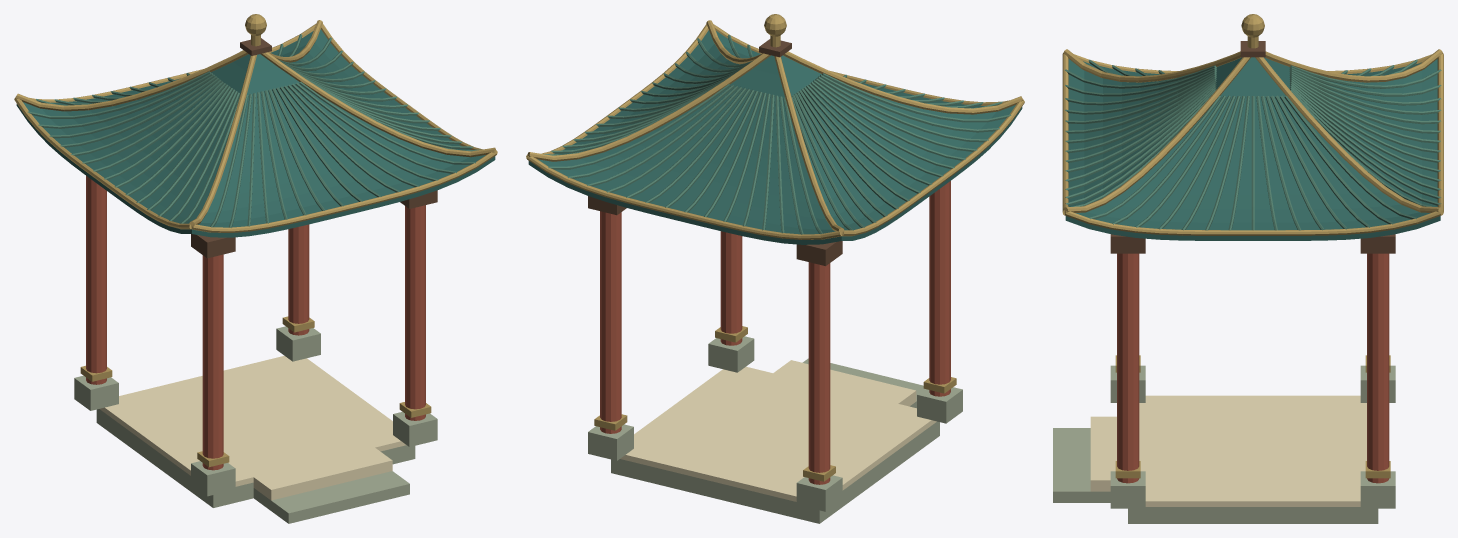
File: prefab-pavilion.glb
3 renders of one model, left to right at view 1: azimuth 30°, elevation 25°; view 2: azimuth 150°, elevation 25°; view 3: azimuth 270°, elevation 25°, orthographic. The views are drawn at different scales.
Parts seen in each view (by area): view 1: prefab-pavilion__roof0, prefab-pavilion__floor, prefab-pavilion__roof3, prefab-pavilion__stairs, prefab-pavilion__post-1_1, prefab-pavilion__roof1, prefab-pavilion__post1_1, prefab-pavilion__post-1_-1, prefab-pavilion__post1_-1, prefab-pavilion__roof2, prefab-pavilion__finial; view 2: prefab-pavilion__roof2, prefab-pavilion__floor, prefab-pavilion__roof3, prefab-pavilion__roof1, prefab-pavilion__post-1_-1, prefab-pavilion__post1_-1, prefab-pavilion__post-1_1, prefab-pavilion__post1_1, prefab-pavilion__stairs, prefab-pavilion__roof0, prefab-pavilion__finial; view 3: prefab-pavilion__roof1, prefab-pavilion__floor, prefab-pavilion__roof0, prefab-pavilion__roof2, prefab-pavilion__post1_1, prefab-pavilion__post1_-1, prefab-pavilion__stairs, prefab-pavilion__roof3, prefab-pavilion__finial, prefab-pavilion__post-1_-1, prefab-pavilion__post-1_1.
Part boxes in pixels (x1,y1,x2,y2): prefab-pavilion__roof0: [191, 52, 496, 237]; prefab-pavilion__floor: [96, 356, 415, 507]; prefab-pavilion__roof3: [14, 54, 256, 233]; prefab-pavilion__stairs: [253, 447, 409, 523]; prefab-pavilion__post-1_1: [191, 234, 235, 496]; prefab-pavilion__roof1: [268, 20, 497, 154]; prefab-pavilion__post1_1: [393, 190, 437, 446]; prefab-pavilion__post-1_-1: [74, 176, 118, 410]; prefab-pavilion__post1_-1: [276, 224, 320, 361]; prefab-pavilion__roof2: [16, 24, 315, 111]; prefab-pavilion__finial: [240, 14, 271, 55]; prefab-pavilion__roof2: [527, 55, 844, 244]; prefab-pavilion__floor: [611, 366, 939, 523]; prefab-pavilion__roof3: [781, 51, 1024, 240]; prefab-pavilion__roof1: [526, 24, 770, 161]; prefab-pavilion__post-1_-1: [796, 241, 842, 511]; prefab-pavilion__post1_-1: [588, 196, 633, 460]; prefab-pavilion__post-1_1: [917, 181, 962, 423]; prefab-pavilion__post1_1: [708, 231, 754, 372]; prefab-pavilion__stairs: [773, 358, 924, 408]; prefab-pavilion__roof0: [706, 20, 1023, 108]; prefab-pavilion__finial: [759, 14, 791, 57]; prefab-pavilion__roof1: [1064, 57, 1442, 240]; prefab-pavilion__floor: [1128, 395, 1378, 523]; prefab-pavilion__roof0: [1062, 53, 1250, 215]; prefab-pavilion__roof2: [1264, 49, 1443, 214]; prefab-pavilion__post1_1: [1110, 234, 1145, 508]; prefab-pavilion__post1_-1: [1360, 234, 1395, 508]; prefab-pavilion__stairs: [1053, 416, 1116, 502]; prefab-pavilion__roof3: [1063, 49, 1431, 82]; prefab-pavilion__finial: [1240, 14, 1265, 57]; prefab-pavilion__post-1_-1: [1360, 355, 1395, 402]; prefab-pavilion__post-1_1: [1110, 355, 1145, 402].
Bounding box in the file's own units: 3.05 × 4.03 × 3.13.
